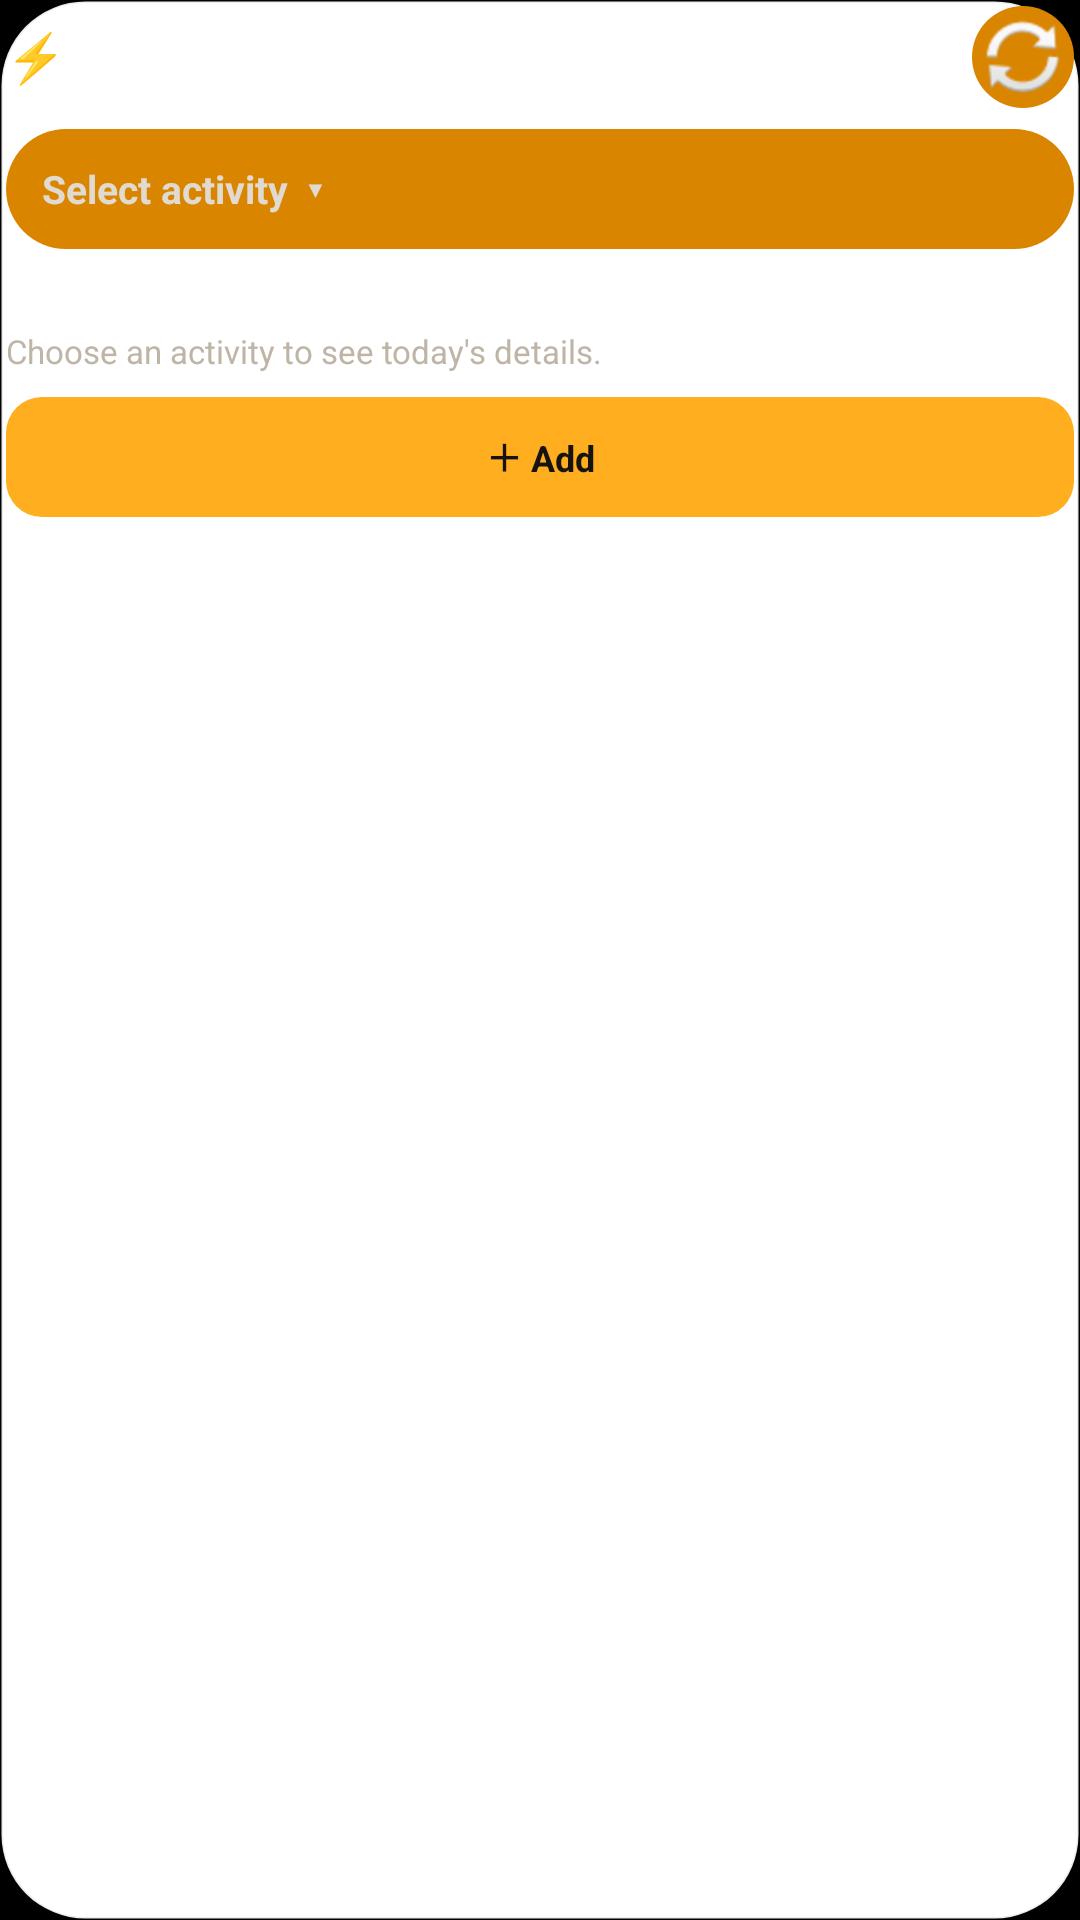

Screen size 1080px x 1920px. Icon name, then its box in pixels as detection(x1, y1, x2, y2):
Refresh: detection(972, 6, 1074, 108)
